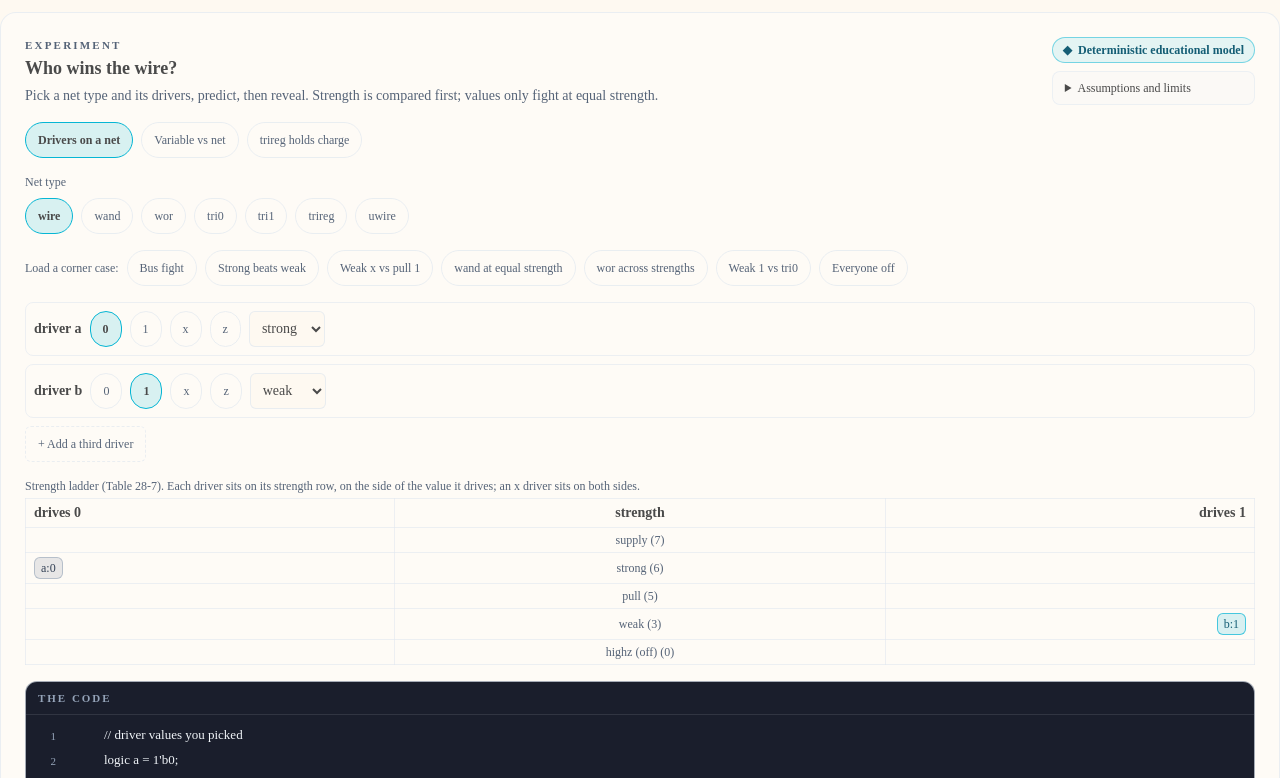
Test: NetResolutionSimulator › a weak driver loses to the tri0 pull-down
What coordinates should you click on to do the following:
click the button "Weak 1 vs tri0"
I would click on:
 (763, 268)
Its box is [716, 250, 811, 286].
(page scrolled)
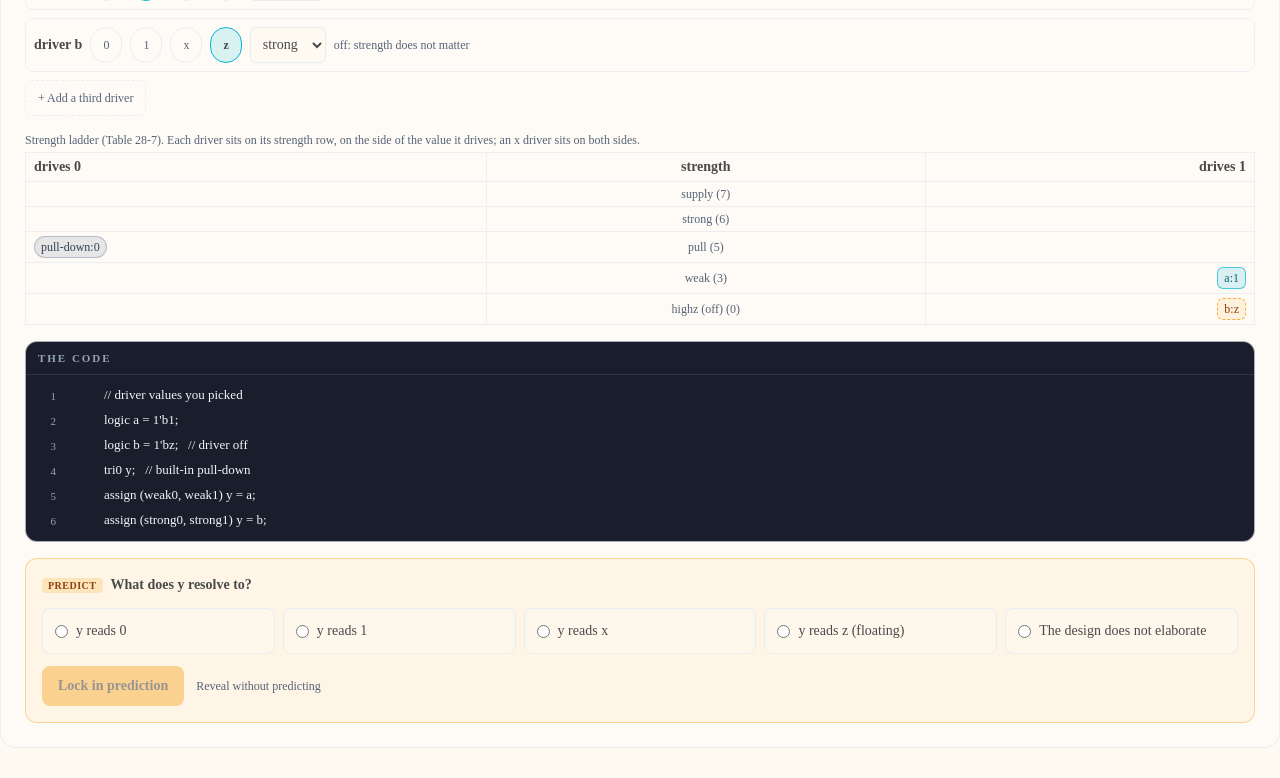
What coordinates should you click on to do the following:
click the radio button labelled "y reads 0"
I would click on:
 (62, 632)
Its box is [55, 625, 68, 638].
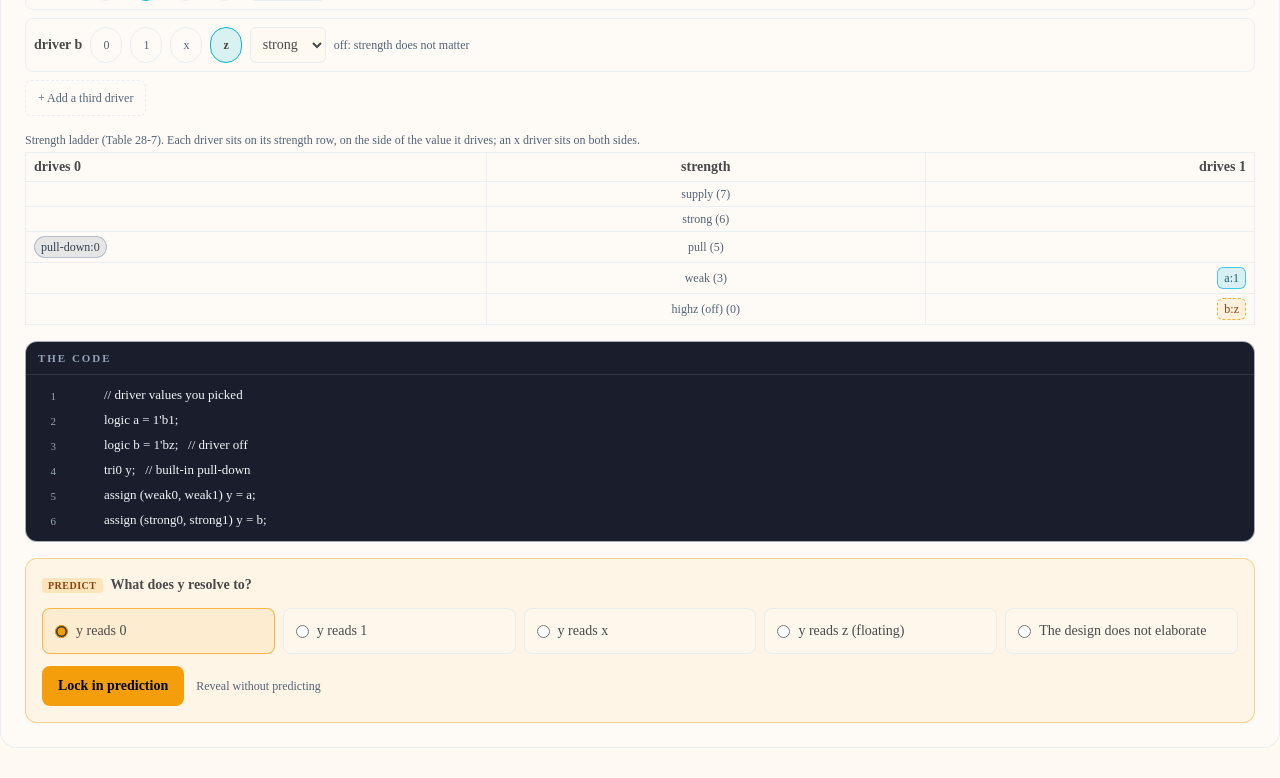
What coordinates should you click on to do the following:
click the button "Lock in prediction"
I would click on:
 (113, 686)
Its box is [42, 666, 184, 706].
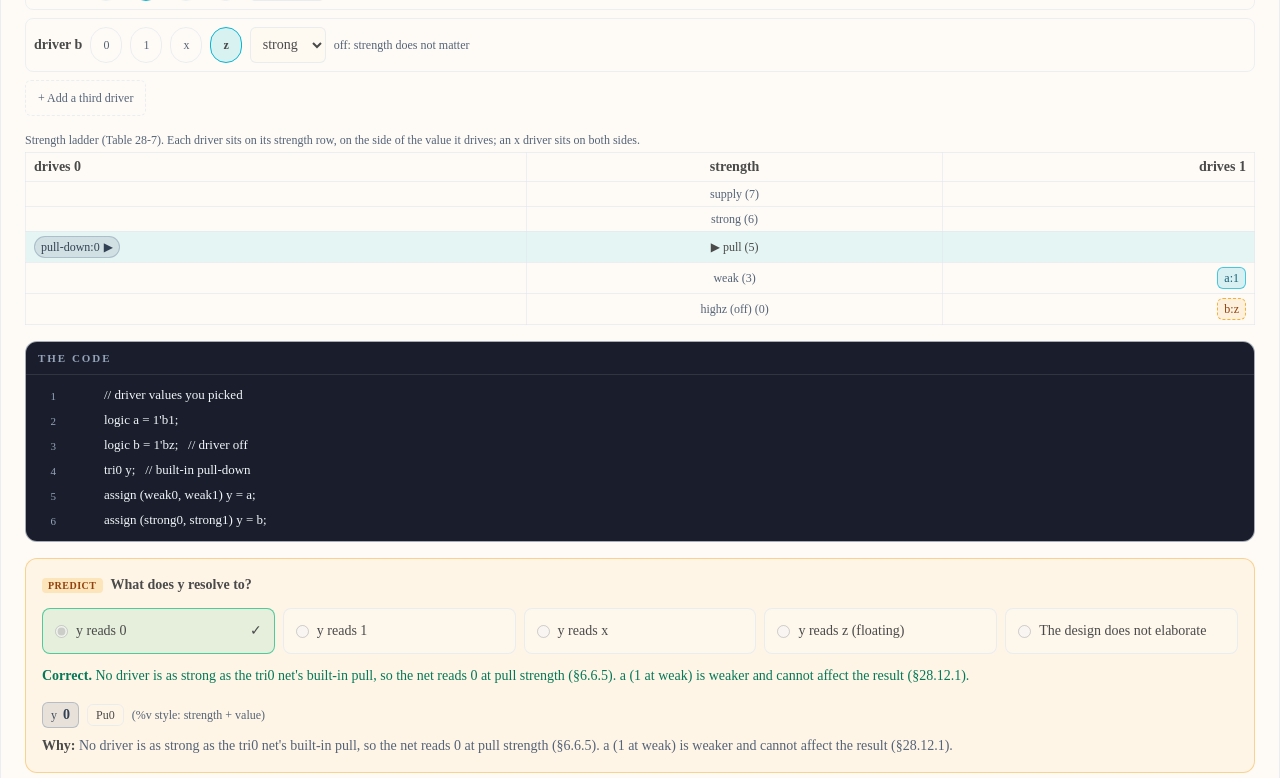
Result: the text "Correct." is shown at [42, 668, 95, 683]
Result: the text named "strength and value Pu0" is shown at [87, 704, 124, 726]
